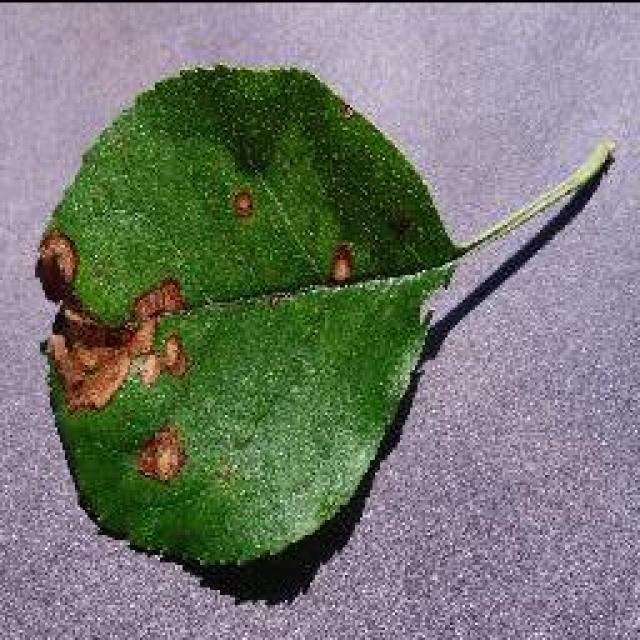apple healthy: (30, 58, 615, 588)
